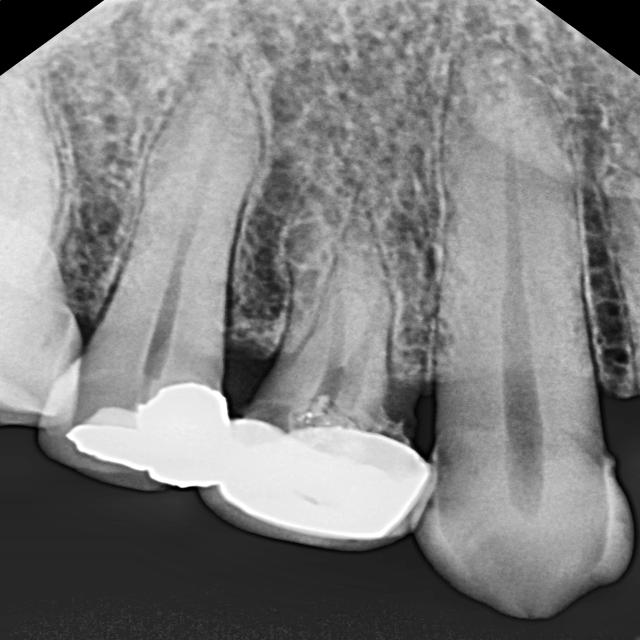Caries: (370, 338, 443, 469)
Crown: (30, 352, 443, 562)
Normal: (396, 18, 638, 635)
